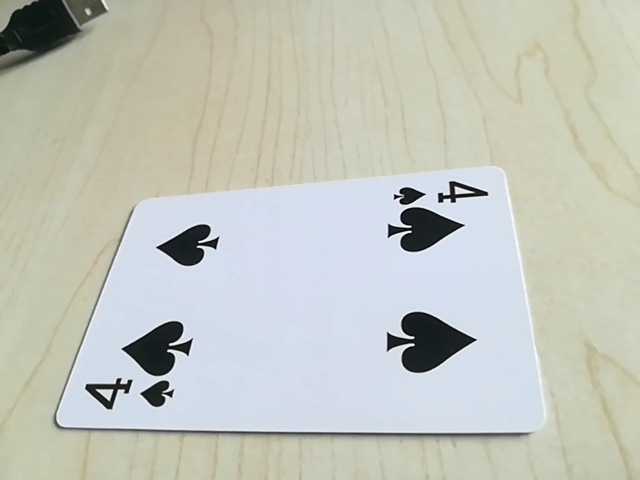ht 4: (75, 372, 185, 421), (386, 175, 491, 209)
